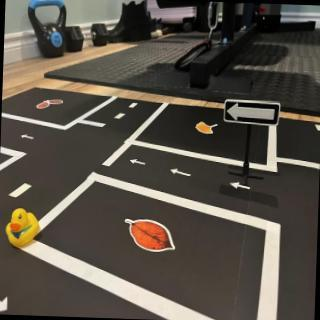duck_regular: (5, 209, 43, 253)
road_oneway: (166, 166, 195, 182), (1, 290, 14, 315), (230, 180, 253, 193), (128, 157, 150, 170), (20, 134, 37, 144)
sign_oneway_left: (224, 99, 282, 128)
